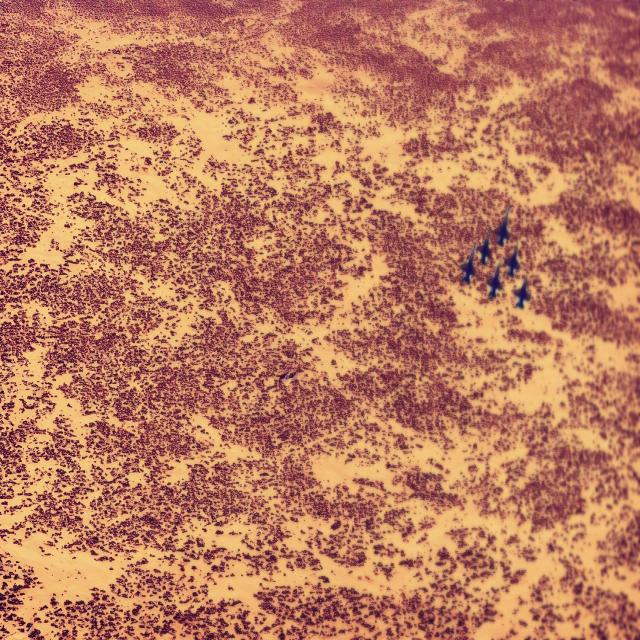airplane: (493, 204, 511, 245), (486, 261, 504, 300), (460, 244, 476, 287), (504, 241, 520, 280), (477, 230, 493, 267), (516, 276, 532, 309)
